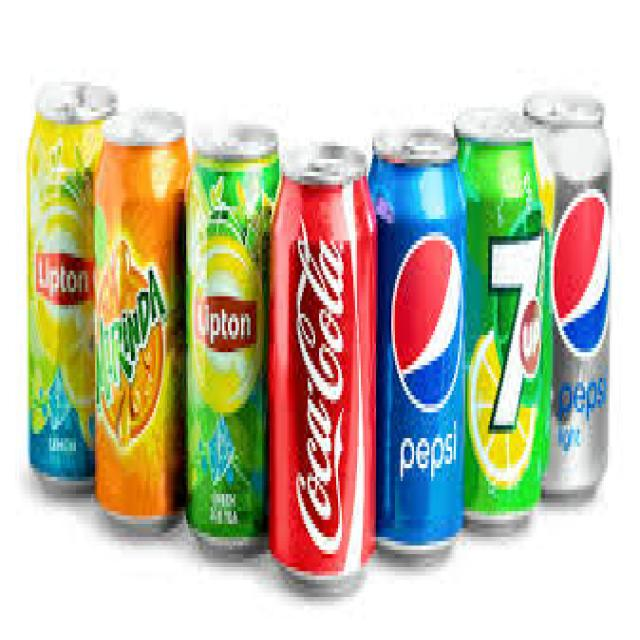Cans: (258, 129, 386, 593), (365, 112, 465, 554), (91, 108, 188, 546), (184, 116, 277, 563), (456, 108, 551, 542)
